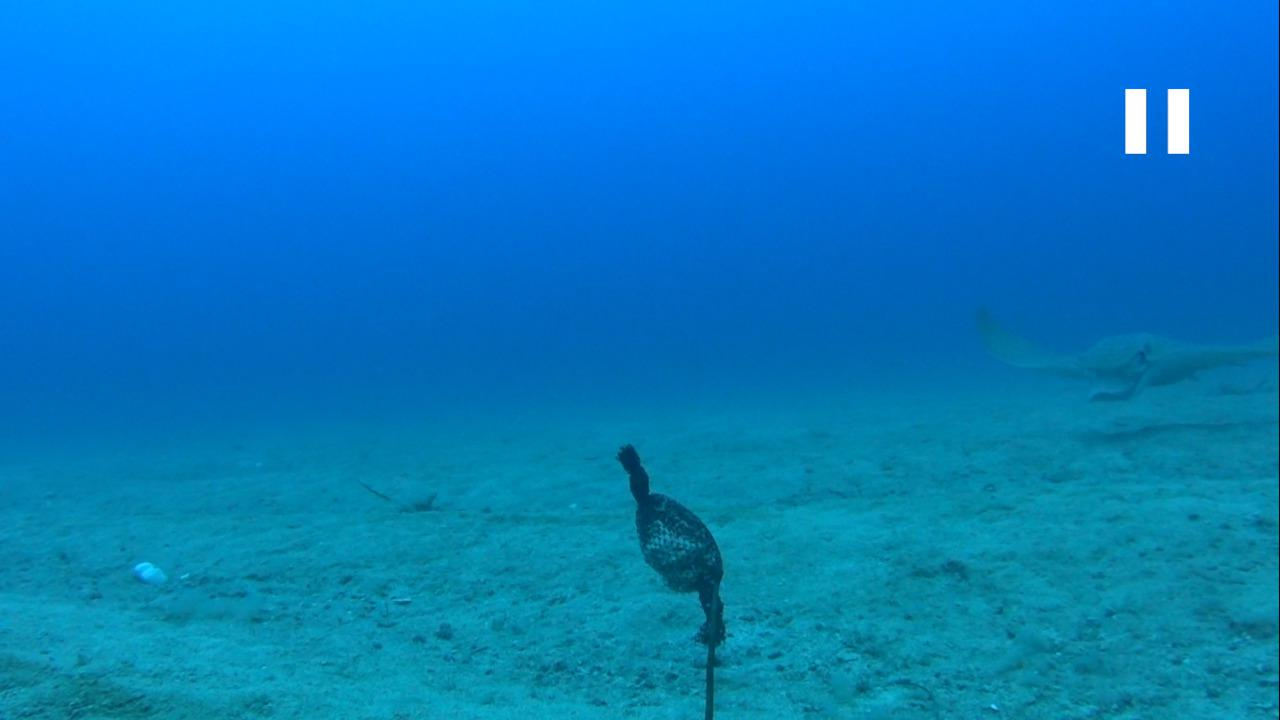myliobatis: (957, 295, 1279, 410)
